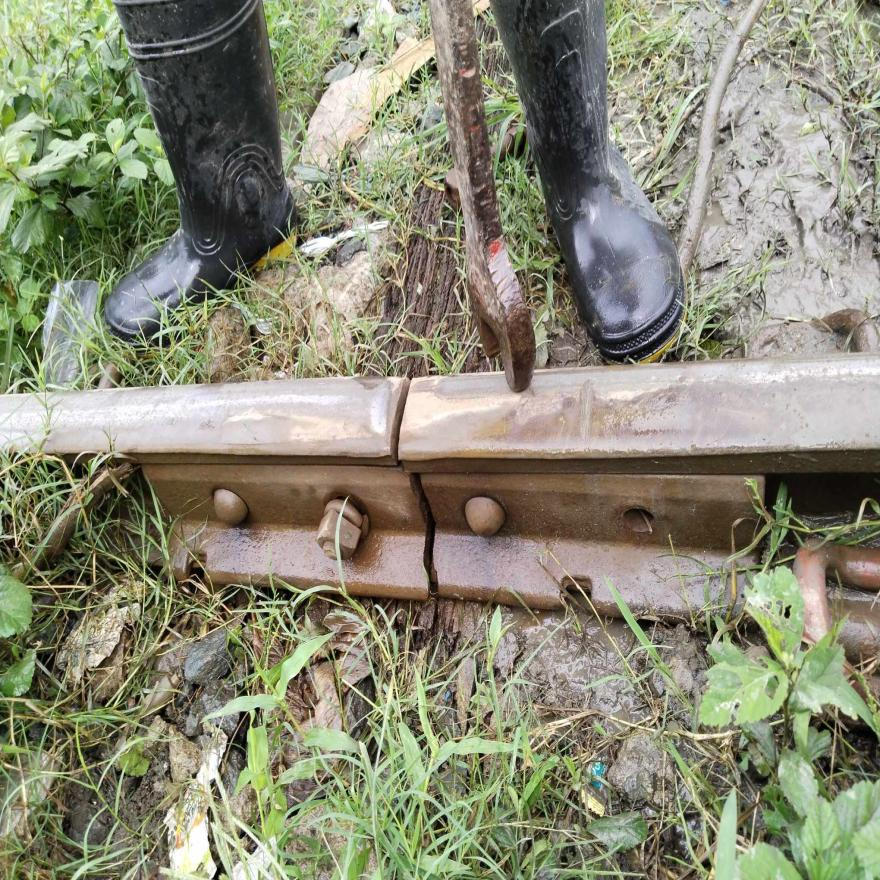railway-gap: (360, 361, 442, 474), (392, 468, 462, 598)
